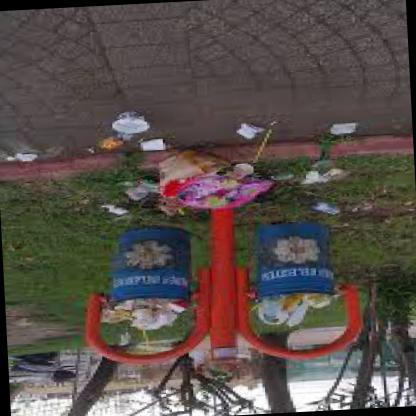Garbage: (93, 100, 312, 210), (146, 153, 258, 213), (254, 289, 328, 330), (106, 298, 180, 336), (320, 119, 381, 150), (106, 98, 150, 138), (233, 118, 264, 140), (324, 199, 357, 217), (135, 185, 154, 209), (101, 205, 127, 222), (308, 172, 336, 184), (146, 144, 170, 154)
